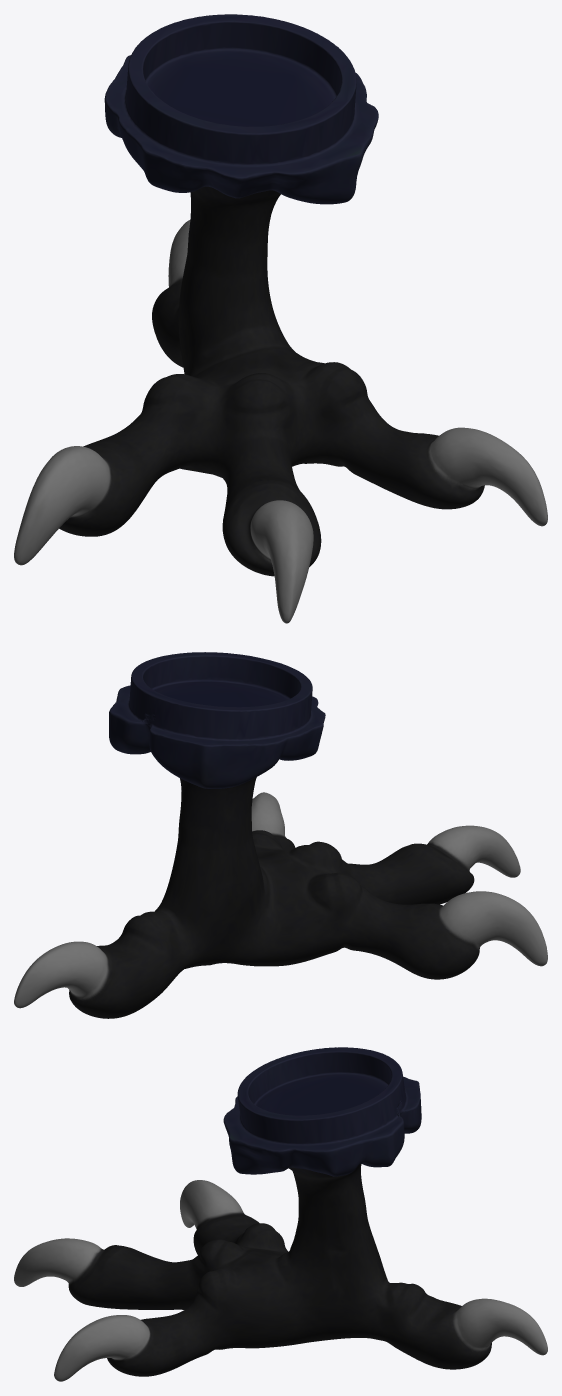
The model's file is Patte_Corbeau_rg.glb.
3 views of the same model, one above another, from view 1: azimuth 30°, elevation 25°; view 2: azimuth 150°, elevation 25°; view 3: azimuth 270°, elevation 25° (orthographic). The views are drawn at different scales.
Visible parts, largest first — view 1: Patte_Corbeau_rg; view 2: Patte_Corbeau_rg; view 3: Patte_Corbeau_rg.
Part boxes in pixels (left/top/right/bottom): Patte_Corbeau_rg: left=14, top=14, right=547, bottom=623; Patte_Corbeau_rg: left=14, top=652, right=547, bottom=1018; Patte_Corbeau_rg: left=14, top=1047, right=547, bottom=1381.
Bounding box in the file's own units: 2.79 × 2.27 × 3.98.
